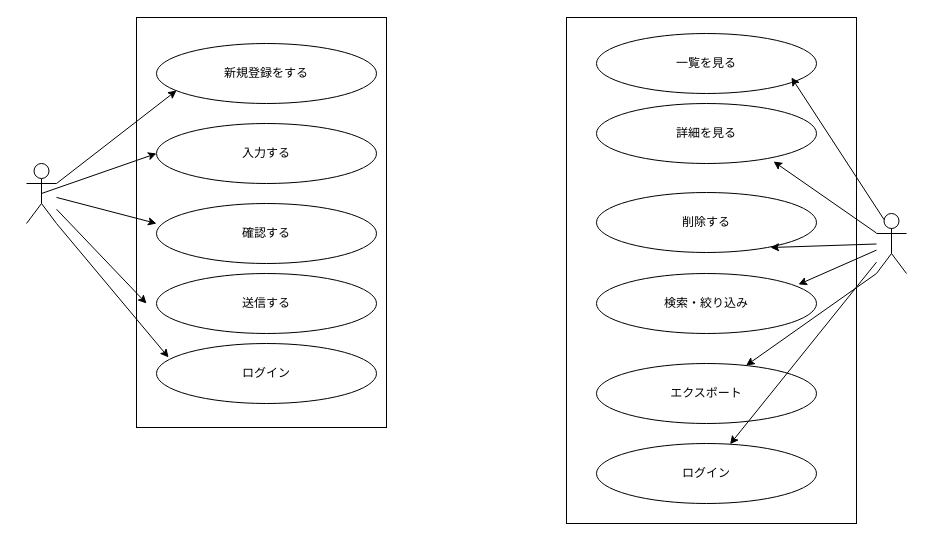
The diagram is 926 pixels wide and 541 high, and some of its shapes have lost their labels. Here are the shapes that lost their labels. From the top down, the box of each, then its label:
(26, 162, 56, 224): ユーザー
(876, 212, 906, 274): 管理者
